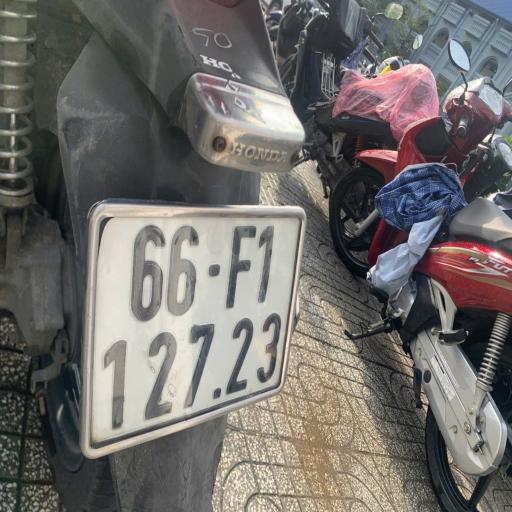1: (78, 328, 143, 448), (257, 222, 281, 311)
2: (139, 326, 181, 445), (224, 311, 258, 405)
3: (258, 302, 295, 388)
6: (130, 217, 166, 330), (170, 222, 200, 324)
7: (182, 315, 214, 414)
F: (224, 214, 262, 312)
